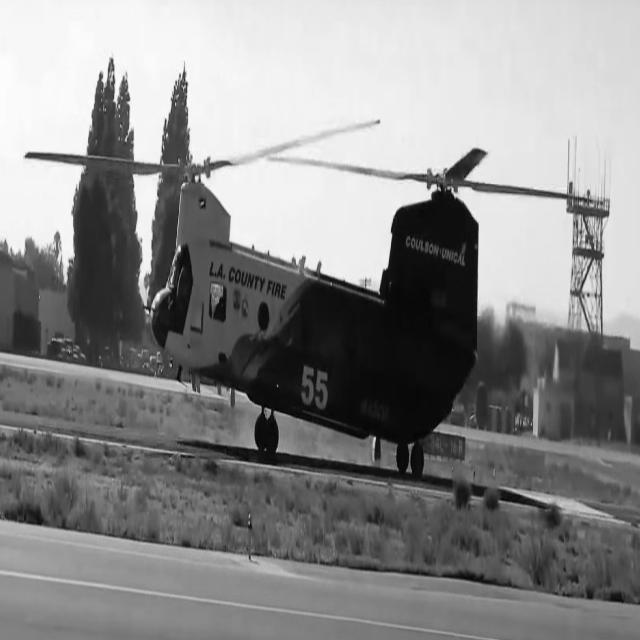Helicopter: (151, 149, 540, 478)
